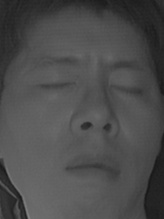blink: (34, 72, 81, 99), (107, 76, 147, 102)
mouth: (59, 146, 128, 191)
